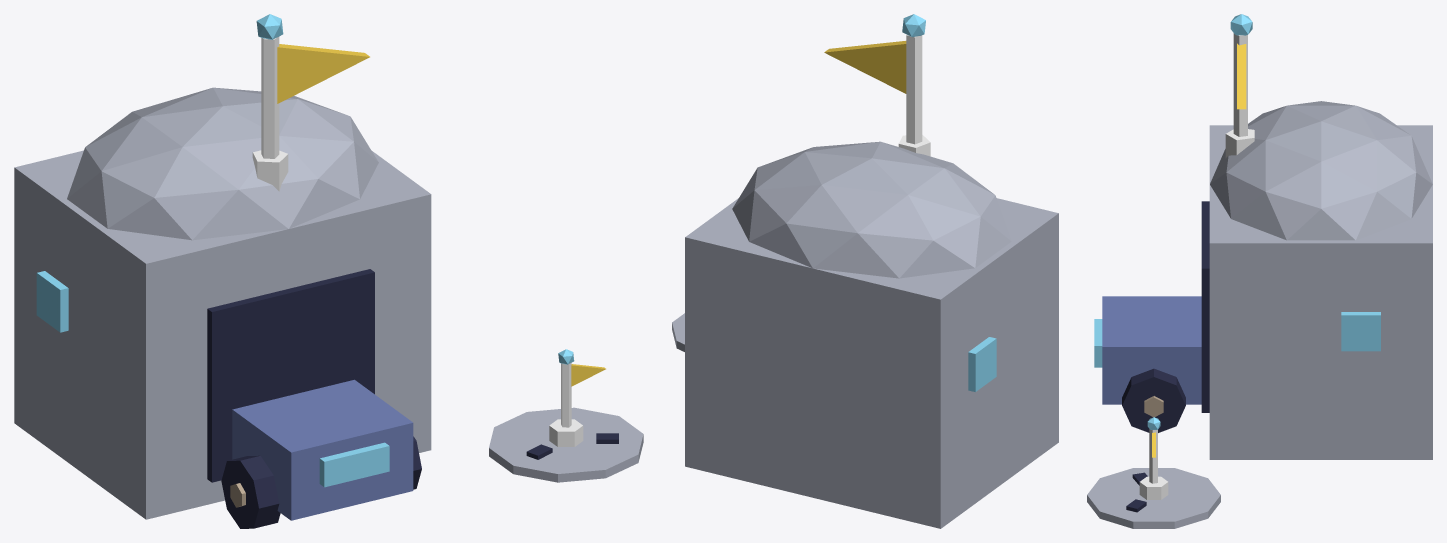
File: space-landmark-s2c.glb
3 views of the same model, side by side, from view 1: azimuth 30°, elevation 25°; view 2: azimuth 150°, elevation 25°; view 3: azimuth 270°, elevation 25° (orthographic). The views are drawn at different scales.
Parts seen in each view (by area): view 1: space-landmark-s2c; view 2: space-landmark-s2c; view 3: space-landmark-s2c.
Part boxes in pixels (x1,y1,x2,y2): space-landmark-s2c: [14, 14, 643, 528]; space-landmark-s2c: [672, 14, 1058, 528]; space-landmark-s2c: [1087, 14, 1432, 528].
Size of the model in its own units: 1.13 by 1.07 by 0.868.
